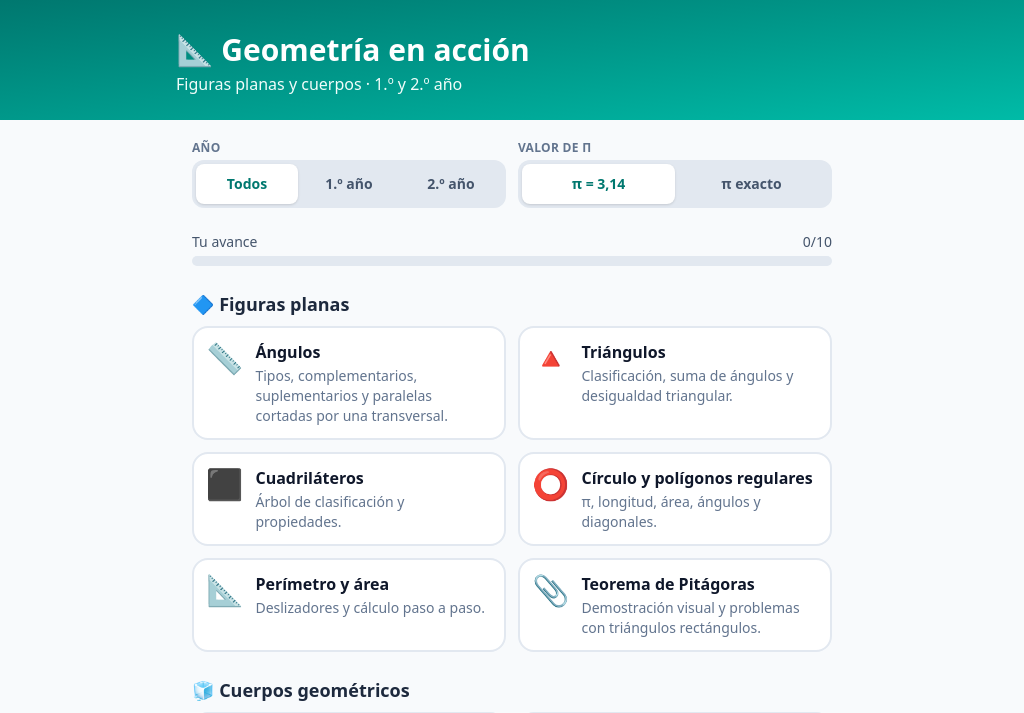
Test: Módulo Triángulos › aparecen ambos módulos en el menú principal y se pueden abrir
Check: the button "Triángulos" is enabled, box [518,326,832,440]
# Abrir Ángulos
Step 1. Click the button "Ángulos" → x=349, y=383, box [192,326,506,440]
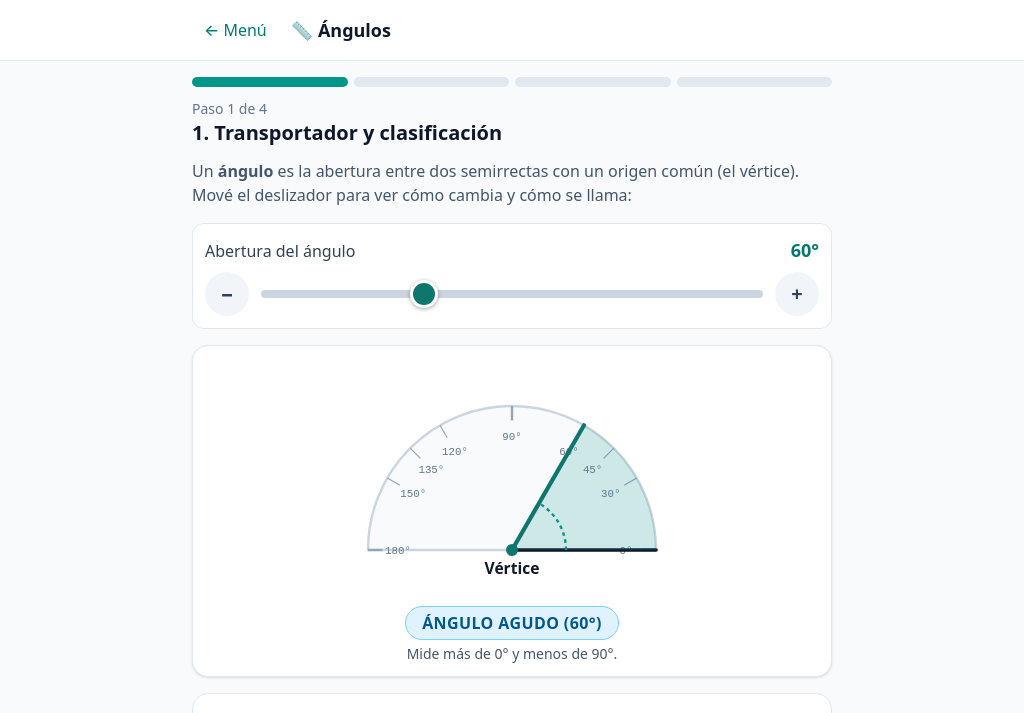
Check: the heading "📏 Ángulos" is shown, box [291,16,391,44]
# Volver al menú
Step 2. Click the button "← Menú" → x=235, y=30, box [192,8,279,52]
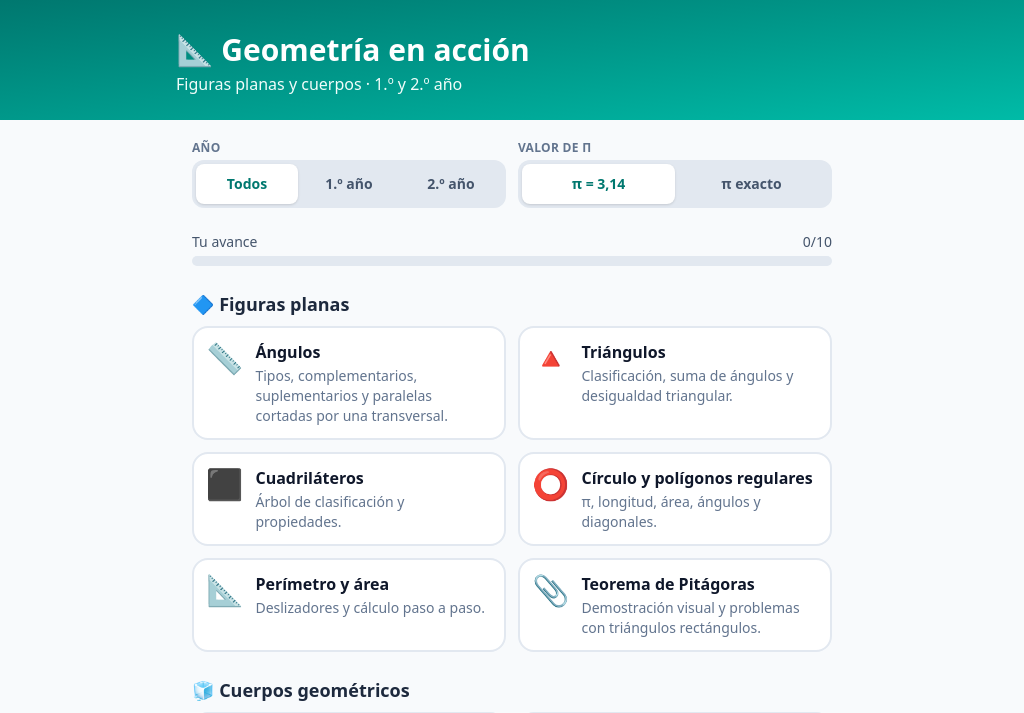
Check: the heading "📐 Geometría en acción" is shown, box [176,29,530,70]
